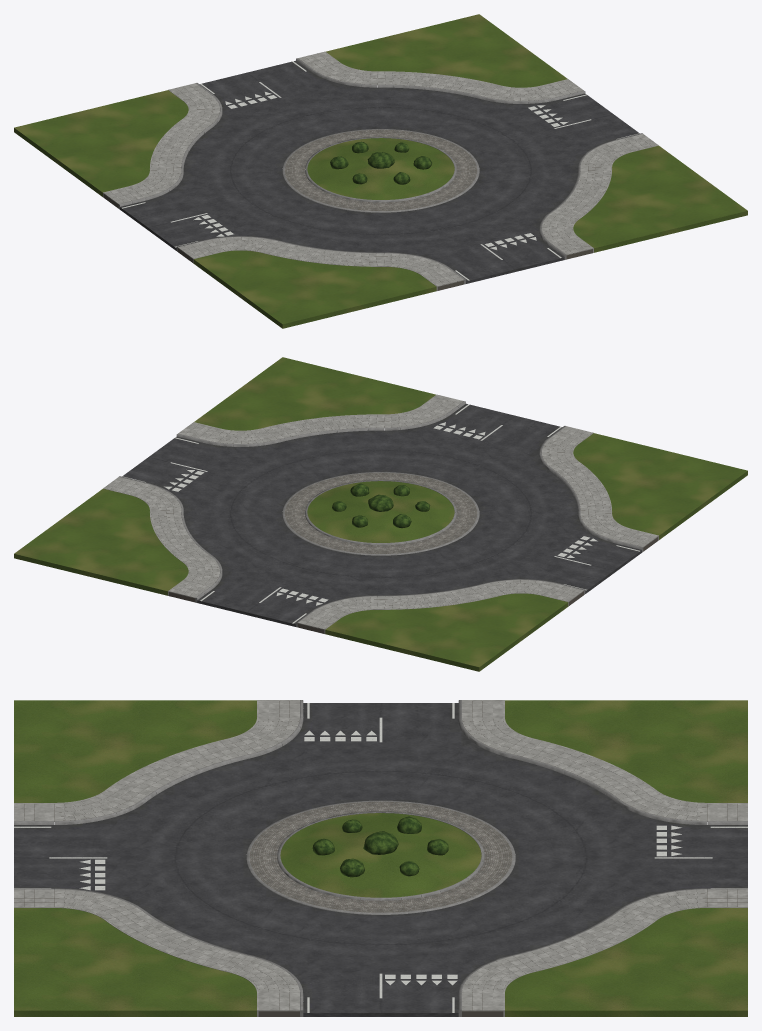
File: roundabout-light.glb
3 views of the same model, one above another, from view 1: azimuth 30°, elevation 25°; view 2: azimuth 150°, elevation 25°; view 3: azimuth 270°, elevation 25° (orthographic). The views are drawn at different scales.
Parts seen in each view (by area): view 1: roundabout_asphalt, roundabout_corner_lawns, roundabout_paving_slabs, roundabout_island_lawn, roundabout_apron_setts, roundabout_curb, roundabout_road_marking, roundabout_shrubs, roundabout_lawn_edging, roundabout_bedding; view 2: roundabout_asphalt, roundabout_corner_lawns, roundabout_paving_slabs, roundabout_island_lawn, roundabout_apron_setts, roundabout_curb, roundabout_road_marking, roundabout_shrubs, roundabout_lawn_edging, roundabout_bedding; view 3: roundabout_asphalt, roundabout_corner_lawns, roundabout_paving_slabs, roundabout_island_lawn, roundabout_apron_setts, roundabout_curb, roundabout_road_marking, roundabout_shrubs, roundabout_lawn_edging, roundabout_bedding.
Boxes of the visible parts, x1,y1,x2,y2 form: roundabout_asphalt: (120, 60, 639, 283); roundabout_corner_lawns: (14, 14, 747, 328); roundabout_paving_slabs: (103, 52, 657, 286); roundabout_island_lawn: (307, 138, 454, 199); roundabout_apron_setts: (284, 129, 477, 210); roundabout_curb: (118, 58, 642, 284); roundabout_road_marking: (122, 61, 639, 280); roundabout_shrubs: (330, 141, 431, 184); roundabout_lawn_edging: (103, 51, 658, 290); roundabout_bedding: (103, 59, 635, 290); roundabout_asphalt: (122, 403, 641, 626); roundabout_corner_lawns: (14, 357, 747, 671); roundabout_paving_slabs: (104, 395, 658, 629); roundabout_island_lawn: (307, 481, 454, 542); roundabout_apron_setts: (284, 472, 477, 553); roundabout_curb: (119, 401, 643, 627); roundabout_road_marking: (122, 404, 639, 623); roundabout_shrubs: (332, 483, 430, 528); roundabout_lawn_edging: (103, 394, 658, 633); roundabout_bedding: (126, 402, 658, 633); roundabout_asphalt: (14, 703, 747, 1016); roundabout_corner_lawns: (14, 700, 747, 1016); roundabout_paving_slabs: (14, 700, 747, 1011); roundabout_island_lawn: (280, 813, 481, 897); roundabout_apron_setts: (249, 801, 512, 912); roundabout_curb: (14, 700, 747, 1016); roundabout_road_marking: (14, 703, 747, 1012); roundabout_shrubs: (312, 816, 448, 877); roundabout_lawn_edging: (14, 700, 747, 1016); roundabout_bedding: (14, 701, 747, 1016).
Bounding box in the file's own units: 35.4 × 1.46 × 35.4.
8 materials, 7 textured.
